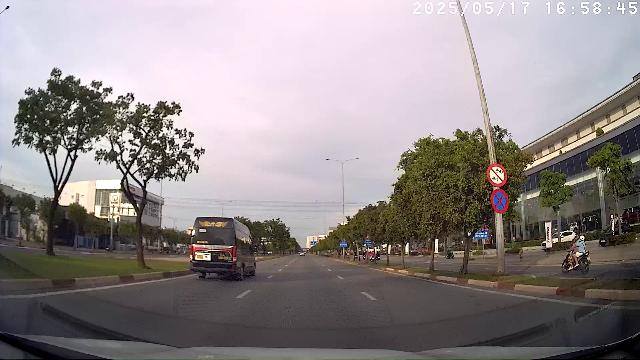130-cam-dung-va-do-xe: (491, 188, 509, 214)
